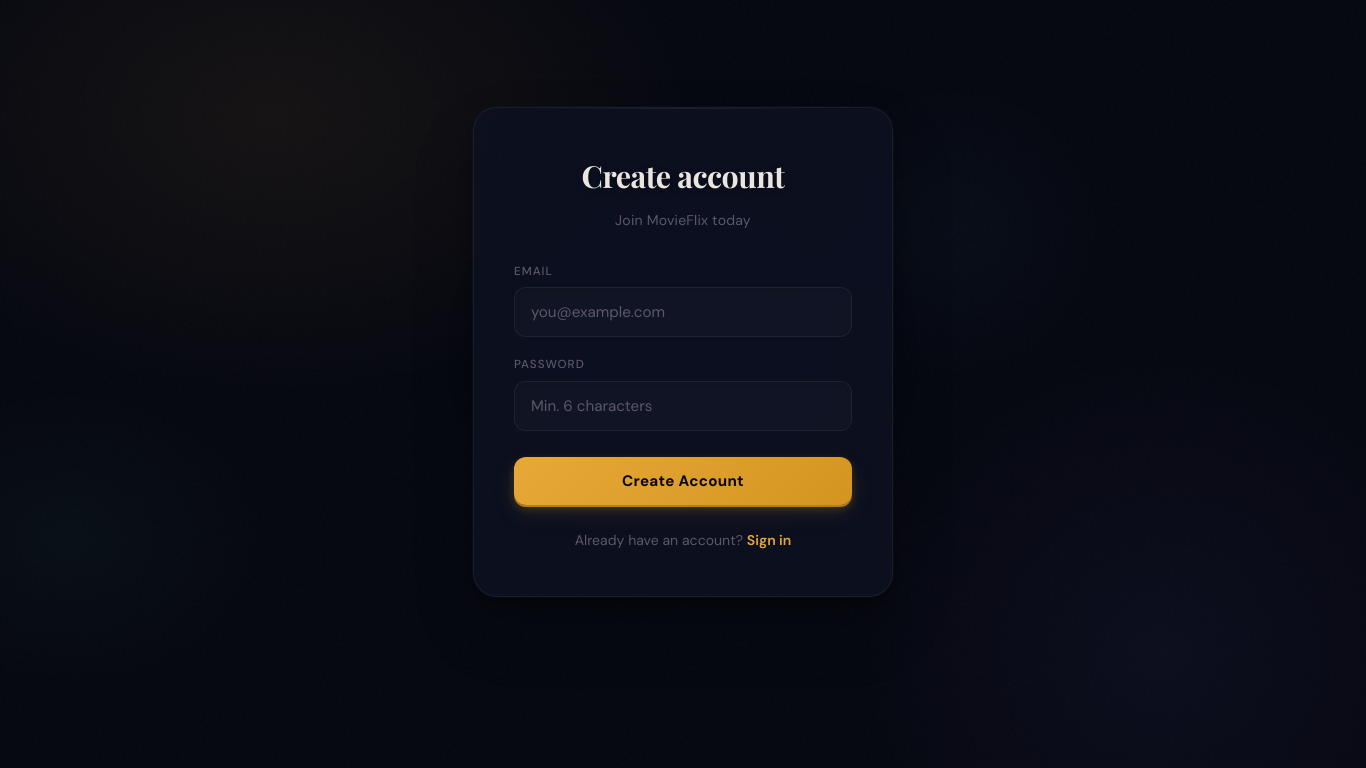
Test case: Register › shows error when email is empty
Click the button "Create Account": coordinates (683, 481) [514,457,852,505]
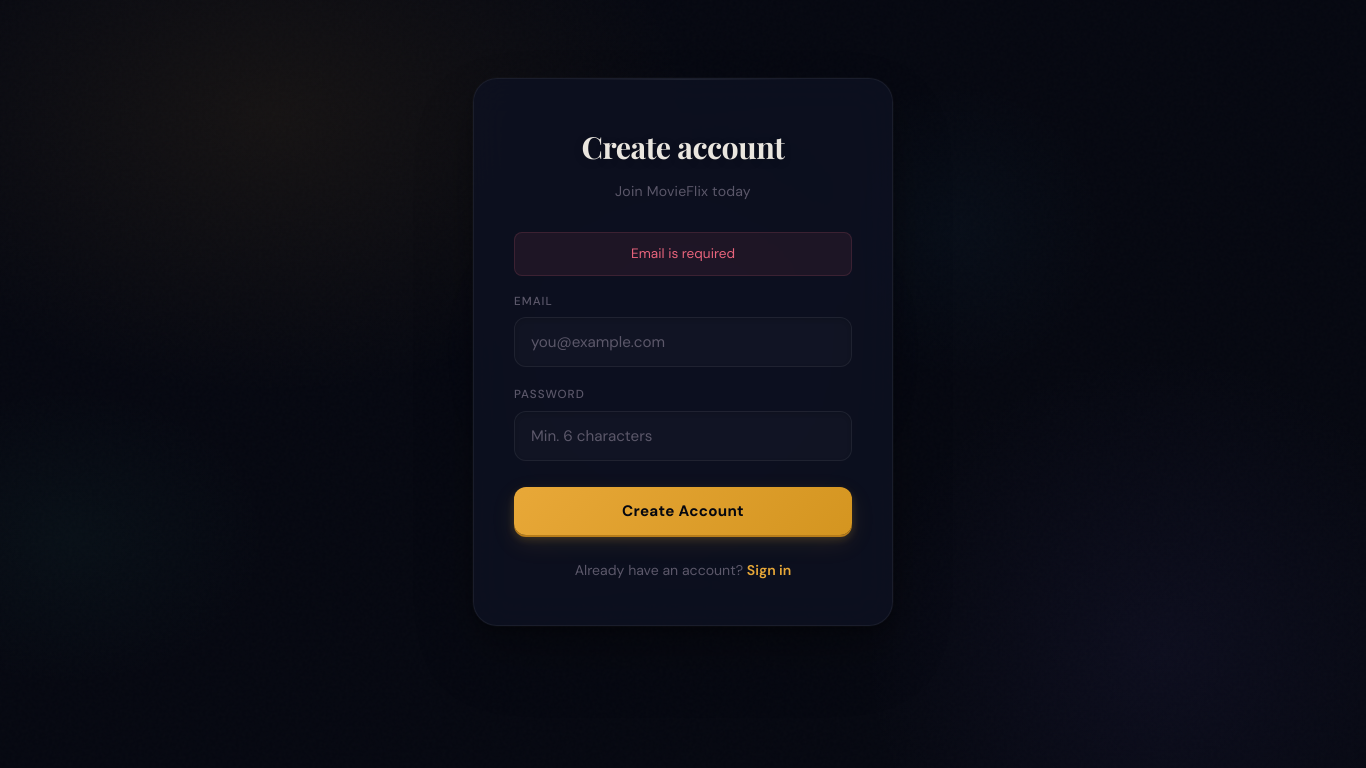
Expected: the text "Email is required" is shown, [514,232,852,276]
